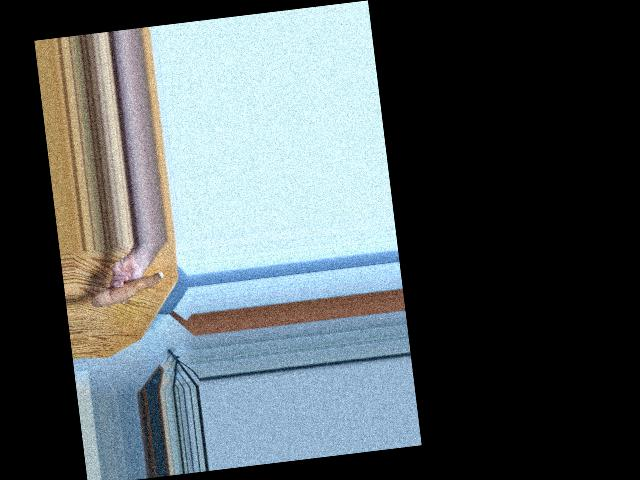sweet_potato: (92, 270, 165, 312)
